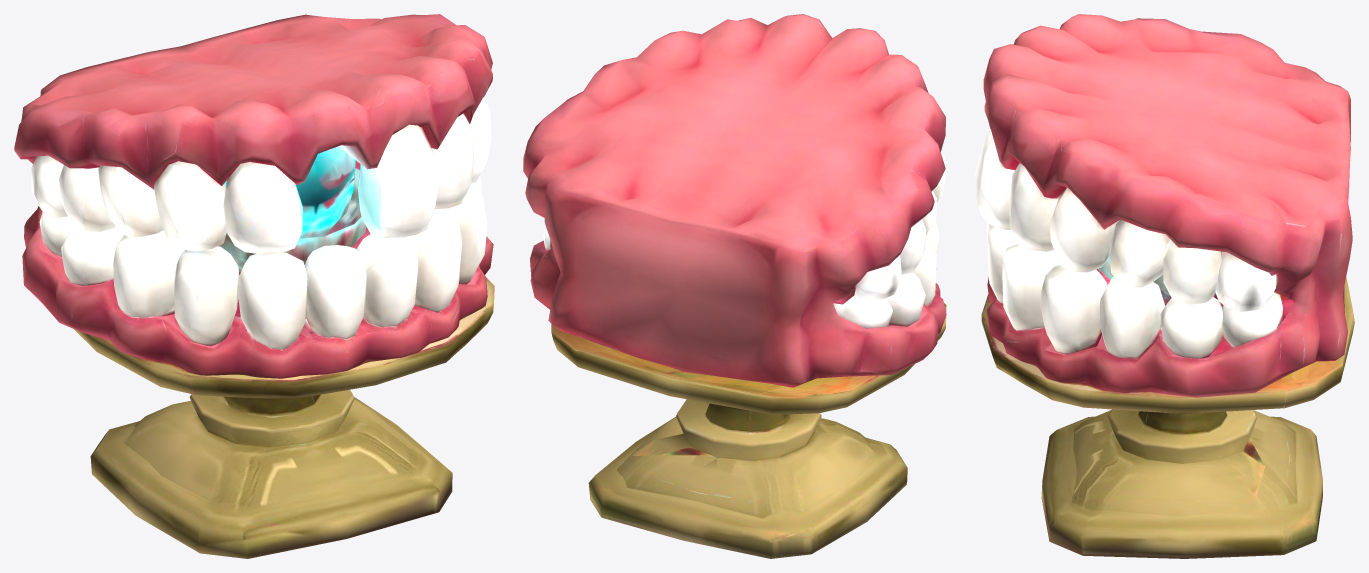
Rendered from gap_tooth.glb.
3 views of the same model, side by side, from view 1: azimuth 30°, elevation 25°; view 2: azimuth 150°, elevation 25°; view 3: azimuth 270°, elevation 25° (orthographic). The views are drawn at different scales.
Size of the model in its own units: 0.9668 by 1 by 0.7949.
1 material, 1 textured.
